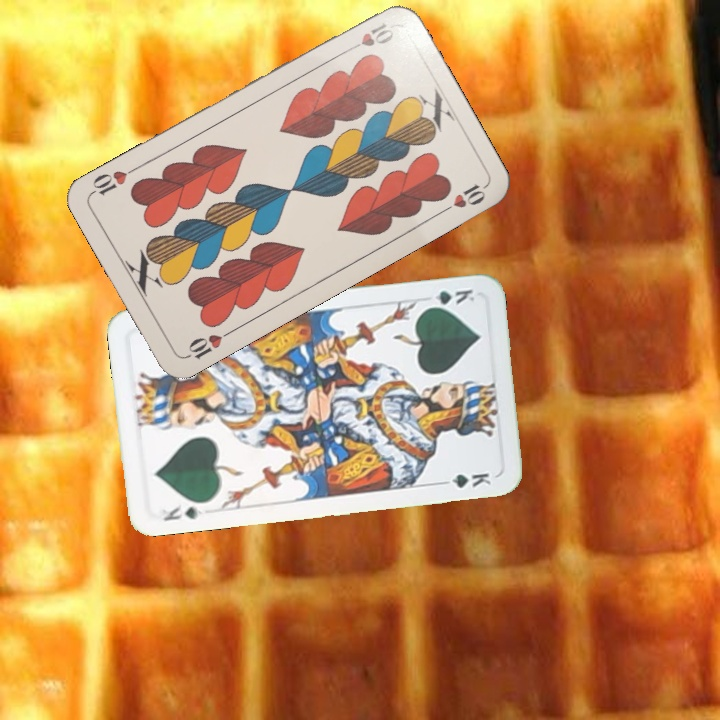GK: (421, 285, 477, 311), (158, 501, 205, 524)
H10: (341, 19, 397, 55), (181, 326, 235, 362)
